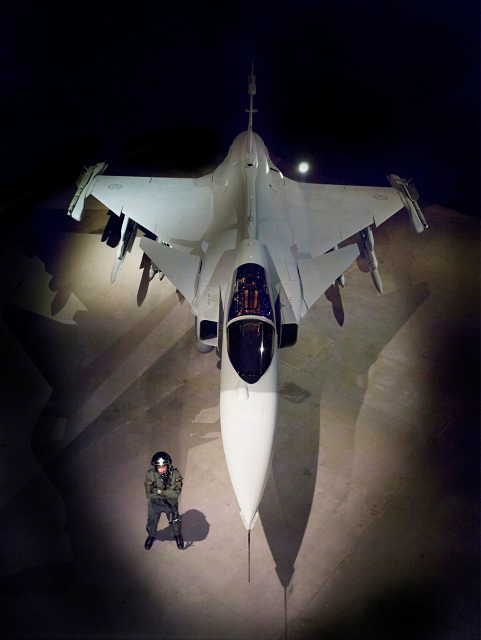JAS39: (66, 58, 429, 584)
